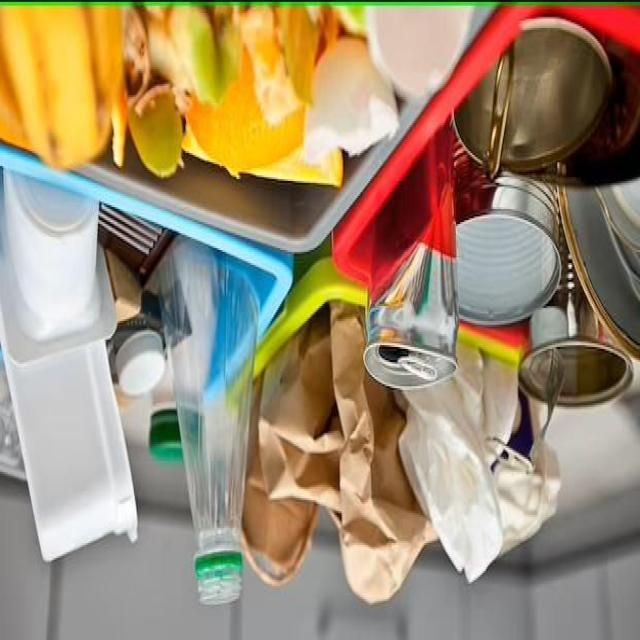Garbage: (0, 0, 640, 605), (559, 180, 640, 359)
Plastic: (116, 330, 164, 394)
Plastic_Container: (0, 171, 138, 558)
Plastic_bottle: (158, 240, 259, 603), (149, 363, 184, 467)
can: (364, 128, 459, 389)
tin_box: (491, 228, 634, 469), (454, 18, 612, 177), (455, 142, 561, 325), (559, 180, 640, 359)
